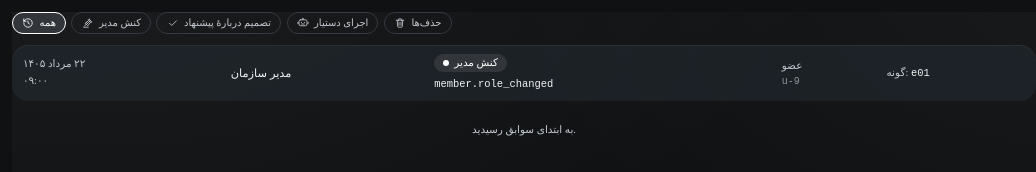
Test case: when the feed cannot be read › says so and shows no rows at all
The width and height of the screenshot is (1036, 172).
Expected: the text "e01" is shown, [911,67,930,79]
Click the tab "اجرای دستیار": (332, 23) [286,12,378,34]
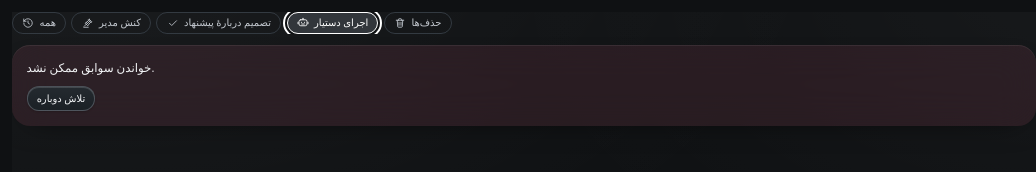
Now the text "خواندن سوابق ممکن نشد." is shown, box [26,61,154,75]
Now the text "e01" is gone
